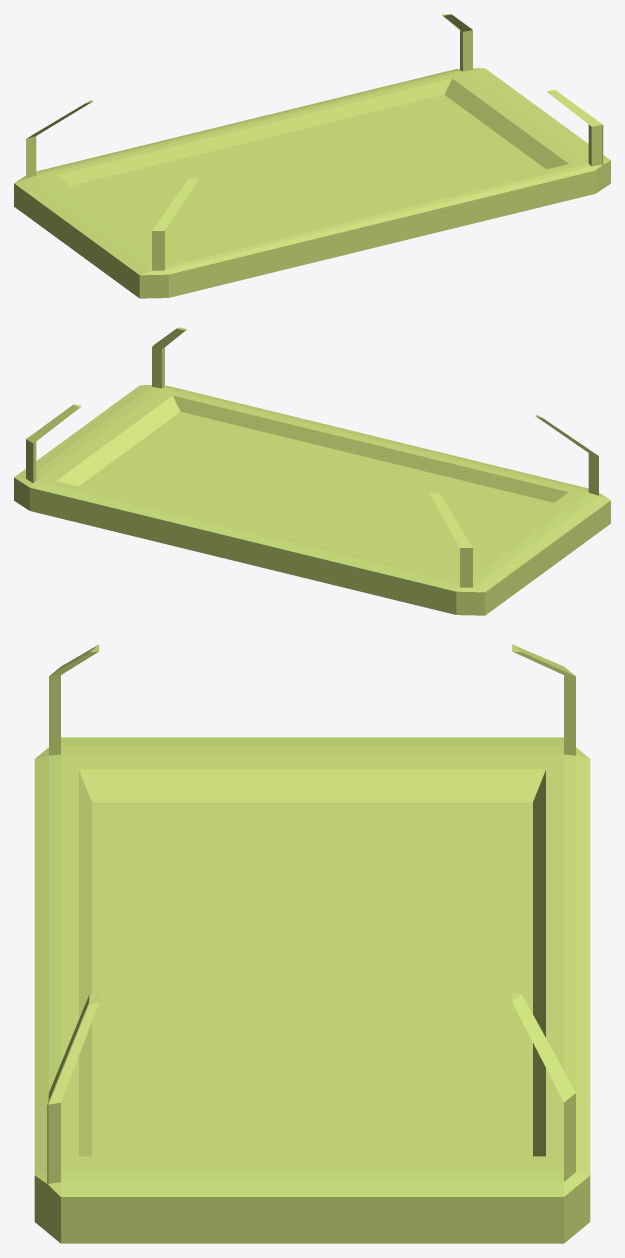
The model's file is floor.glb.
The picture shows the model from 3 angles, top to bottom: view 1: azimuth 30°, elevation 25°; view 2: azimuth 150°, elevation 25°; view 3: azimuth 270°, elevation 25°; orthographic projection. The views are drawn at different scales.
Parts seen in each view (by area): view 1: Floor; view 2: Floor; view 3: Floor.
Boxes of the visible parts, left/top/right/bottom form: Floor: left=14, top=14, right=610, bottom=298; Floor: left=14, top=327, right=610, bottom=615; Floor: left=34, top=644, right=590, bottom=1243.
Size of the model in its own units: 11.79 by 2.39 by 6.02.
